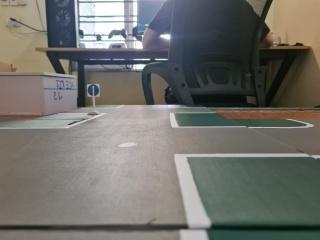straight: (87, 83, 101, 98)
